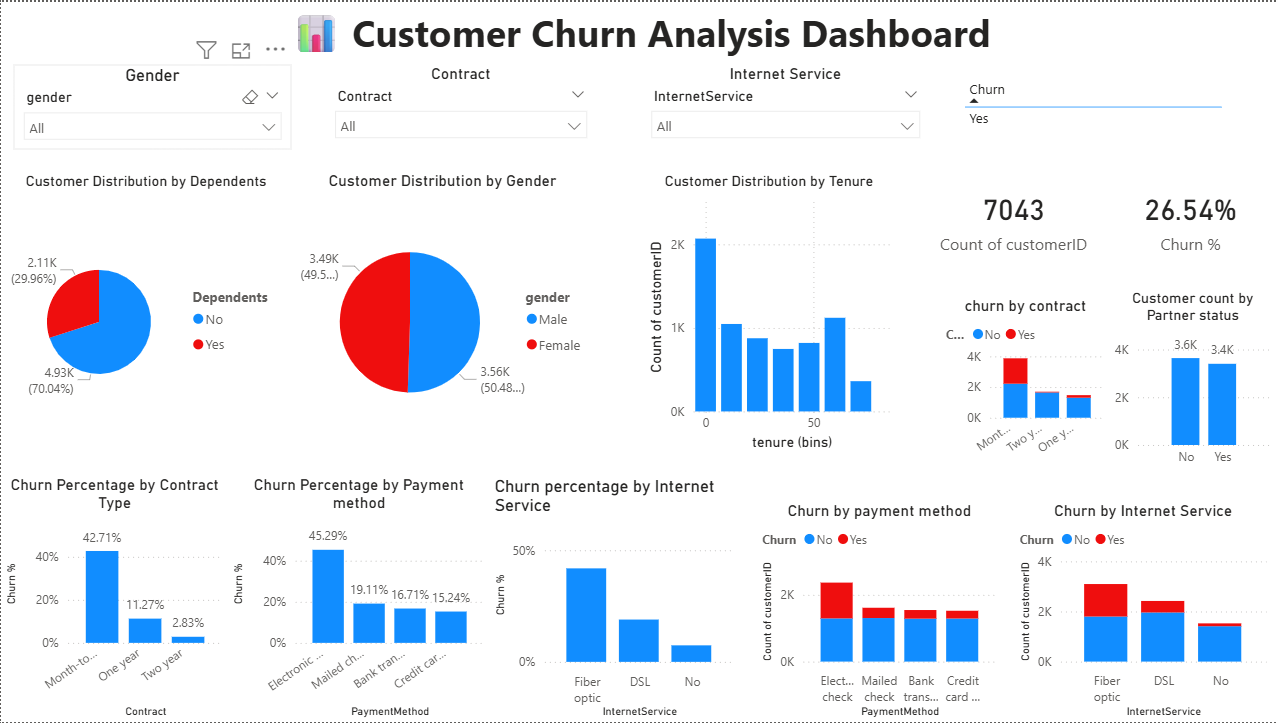

The page's visual inventory and layout, read from the dashboard file:
{"tool":"powerbi","page":{"name":"Page 1","canvas":[1280,720],"ordinal":0},"visuals":[{"type":"card","fields":{"Values":["Count(Telco_Customer_Churn_Dataset  (2).customerID)"]},"box":[920.1,148,185.7,139.6],"z":1000},{"type":"card","fields":{"Values":["Telco_Customer_Churn.Churn %","select"]},"box":[1108.6,148,162,139.6],"z":2000},{"type":"clusteredColumnChart","title":"Churn Percentage by Contract Type","fields":{"Category":["Telco_Customer_Churn.Contract"],"Y":["Telco_Customer_Churn.Churn %"]},"box":[0,473.3,227.6,247.1],"z":3000},{"type":"clusteredColumnChart","title":"Churn Percentage by Payment method","fields":{"Category":["Telco_Customer_Churn.PaymentMethod"],"Y":["Telco_Customer_Churn.Churn %"]},"box":[227.6,473.3,261.1,247.1],"z":4000},{"type":"clusteredColumnChart","title":"Churn percentage by Internet Service","fields":{"Category":["Telco_Customer_Churn.InternetService"],"Y":["Telco_Customer_Churn.Churn %"]},"box":[488.7,473.3,249.9,247.1],"z":5000},{"type":"pieChart","title":"Customer Distribution by Gender","fields":{"Category":["Telco_Customer_Churn.gender"],"Y":["CountNonNull(Telco_Customer_Churn.customerID)"]},"box":[289,170.3,305.8,283.4],"z":6000},{"type":"clusteredColumnChart","title":"Customer count by Partner status","fields":{"Category":["Telco_Customer_Churn.Partner"],"Y":["CountNonNull(Telco_Customer_Churn.customerID)"]},"box":[1108.6,287.6,166.1,185.7],"z":7000},{"type":"pieChart","title":"Customer Distribution by Dependents","fields":{"Category":["Telco_Customer_Churn.Dependents"],"Y":["CountNonNull(Telco_Customer_Churn.customerID)"]},"box":[0,170.3,290.4,283.4],"z":8000},{"type":"clusteredColumnChart","title":"Customer Distribution by Tenure","fields":{"Category":["Telco_Customer_Churn.tenure (bins)"],"Y":["CountNonNull(Telco_Customer_Churn.customerID)"]},"box":[642.2,170.3,251.3,283.4],"z":9000},{"type":"tableEx","fields":{"Values":["Telco_Customer_Churn.Churn"]},"box":[957.8,71.2,268.1,65.6],"z":10000},{"type":"columnChart","title":"Churn by Internet Service","fields":{"Category":["Telco_Customer_Churn.InternetService"],"Series":["Telco_Customer_Churn.Churn"],"Y":["CountNonNull(Telco_Customer_Churn.customerID)"]},"box":[1013.6,499.8,256.9,220.6],"z":12000},{"type":"textbox","box":[266.5,0,746.9,71.2],"z":13000},{"type":"slicer","title":"Gender","fields":{"Values":["Telco_Customer_Churn.gender"]},"box":[12.6,62.8,277.8,85.2],"z":14000},{"type":"slicer","title":"Contract","fields":{"Values":["Telco_Customer_Churn.Contract"]},"box":[323.9,62.8,272.3,85.2],"z":15000},{"type":"slicer","title":"Internet Service","fields":{"Values":["Telco_Customer_Churn.InternetService"]},"box":[639.4,62.8,289,85.2],"z":16000},{"type":"columnChart","title":"churn by contract","fields":{"Category":["Telco_Customer_Churn.Contract"],"Y":["CountNonNull(Telco_Customer_Churn.customerID)"],"Series":["Telco_Customer_Churn.Churn"]},"box":[939.6,294.6,168.9,168.9],"z":17000},{"type":"columnChart","title":"Churn by payment method","fields":{"Series":["Telco_Customer_Churn.Churn"],"Y":["CountNonNull(Telco_Customer_Churn.customerID)"],"Category":["Telco_Customer_Churn.PaymentMethod"]},"box":[756.7,499.8,244.3,220.6],"z":18000}]}

Visuals, with their boxes on the page's 1280x720 design canvas (x1, y1, x2, y2). These are canvas units, not pixel positions in the 1277x723 screenshot, which may show the page scaled, cropped or inside an application window:
card - Count(Telco_Customer_Churn_Dataset  (2).customerID): <box>920,148,1106,288</box>
card - Telco_Customer_Churn.Churn % x select: <box>1109,148,1271,288</box>
"Churn Percentage by Contract Type" clusteredColumnChart: <box>0,473,228,720</box>
"Churn Percentage by Payment method" clusteredColumnChart: <box>228,473,489,720</box>
"Churn percentage by Internet Service" clusteredColumnChart: <box>489,473,739,720</box>
"Customer Distribution by Gender" pieChart: <box>289,170,595,454</box>
"Customer count by Partner status" clusteredColumnChart: <box>1109,288,1275,473</box>
"Customer Distribution by Dependents" pieChart: <box>0,170,290,454</box>
"Customer Distribution by Tenure" clusteredColumnChart: <box>642,170,894,454</box>
tableEx - Telco_Customer_Churn.Churn: <box>958,71,1226,137</box>
"Churn by Internet Service" columnChart: <box>1014,500,1270,720</box>
textbox: <box>266,0,1013,71</box>
"Gender" slicer: <box>13,63,290,148</box>
"Contract" slicer: <box>324,63,596,148</box>
"Internet Service" slicer: <box>639,63,928,148</box>
"churn by contract" columnChart: <box>940,295,1108,464</box>
"Churn by payment method" columnChart: <box>757,500,1001,720</box>
